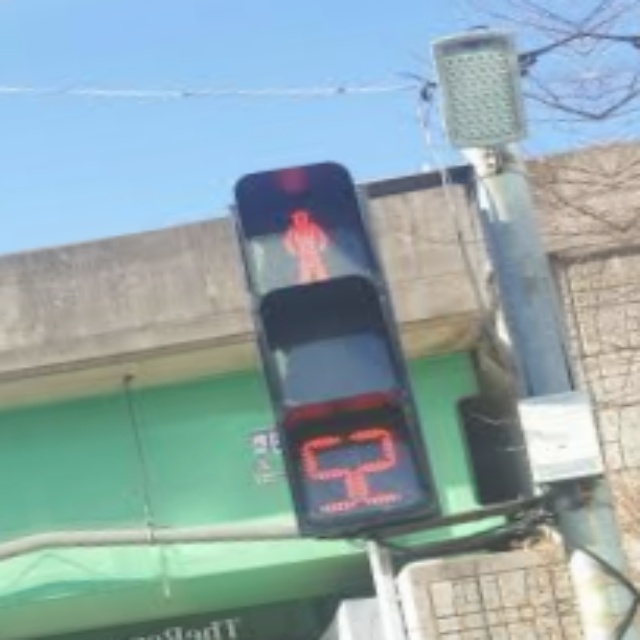red_light: (297, 424, 415, 524), (268, 203, 348, 291)
